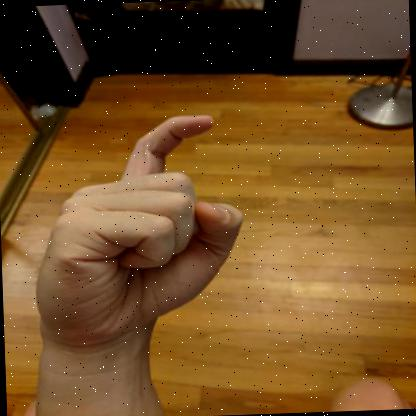X: (36, 115, 243, 347)
